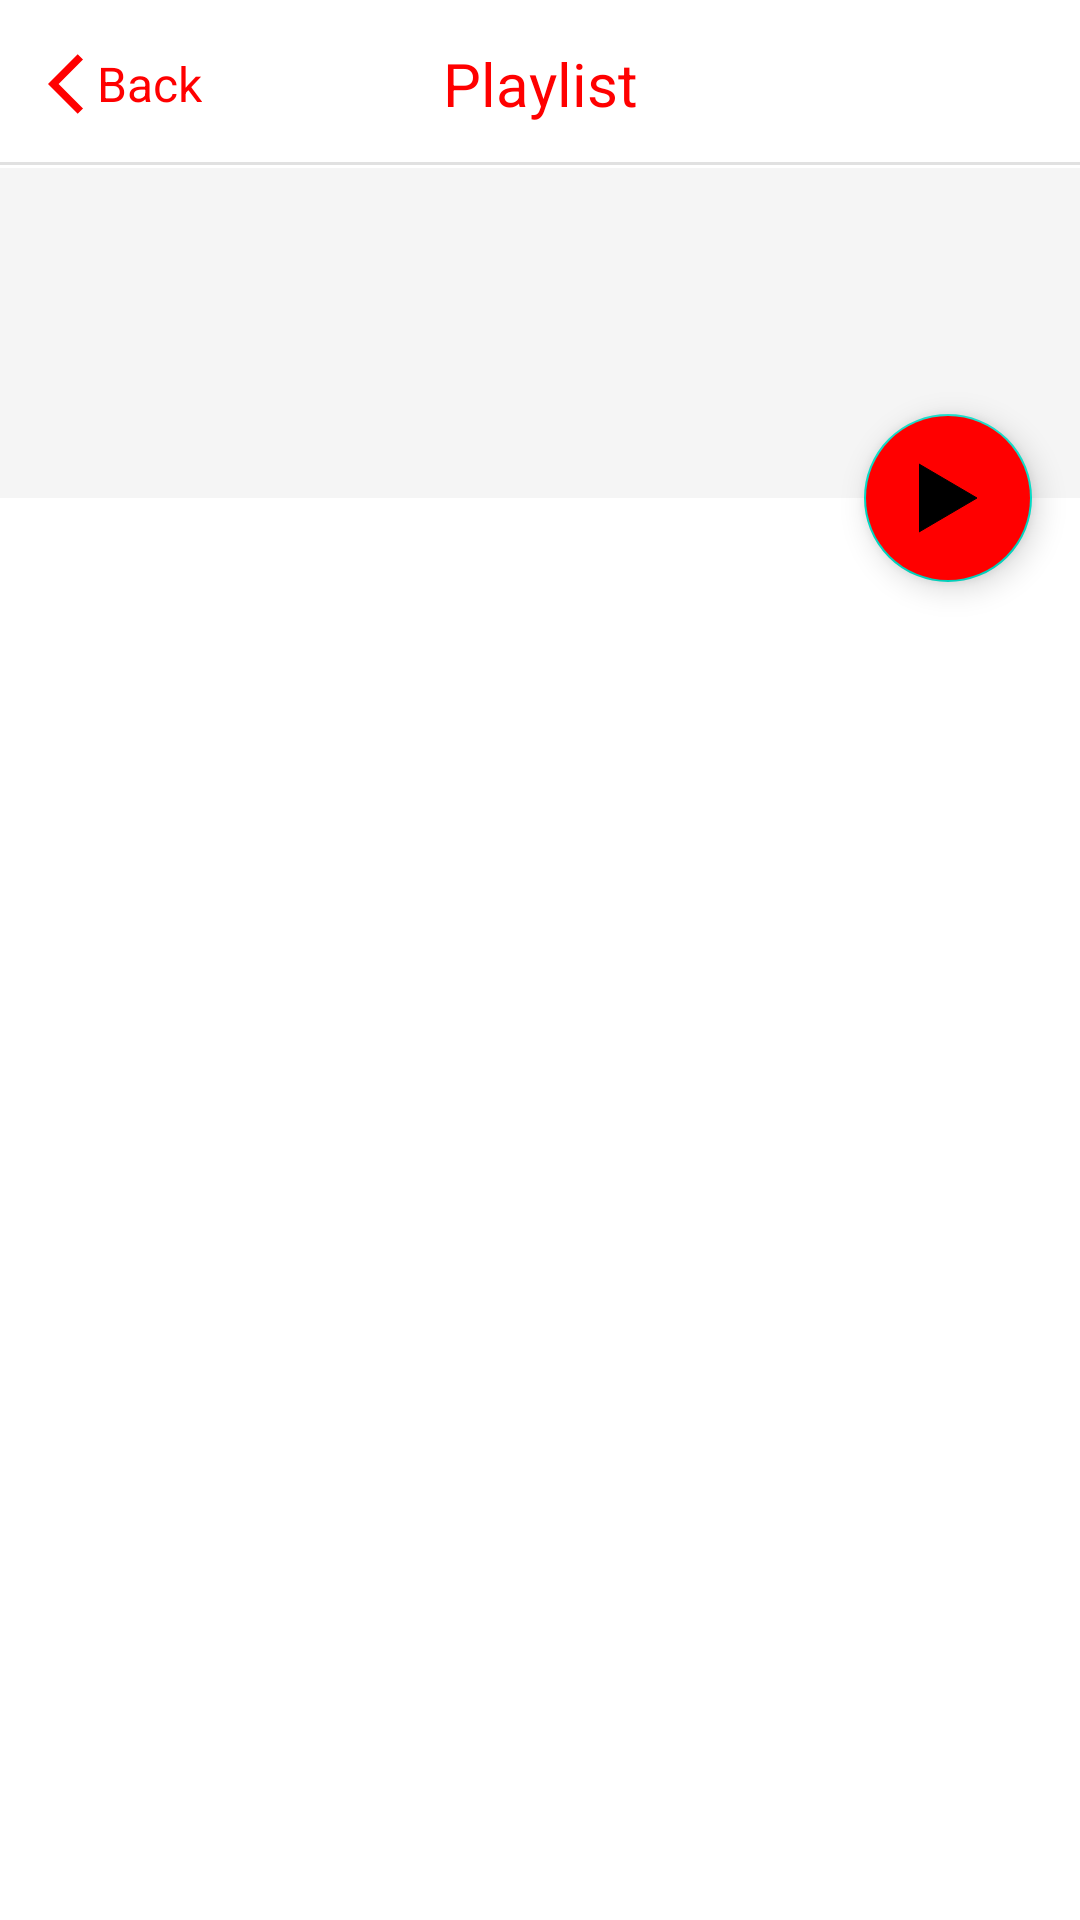

Where to tap for icons on this 1080x1920 app screen, as (x=x, y=y):
play button: (x=948, y=498)
